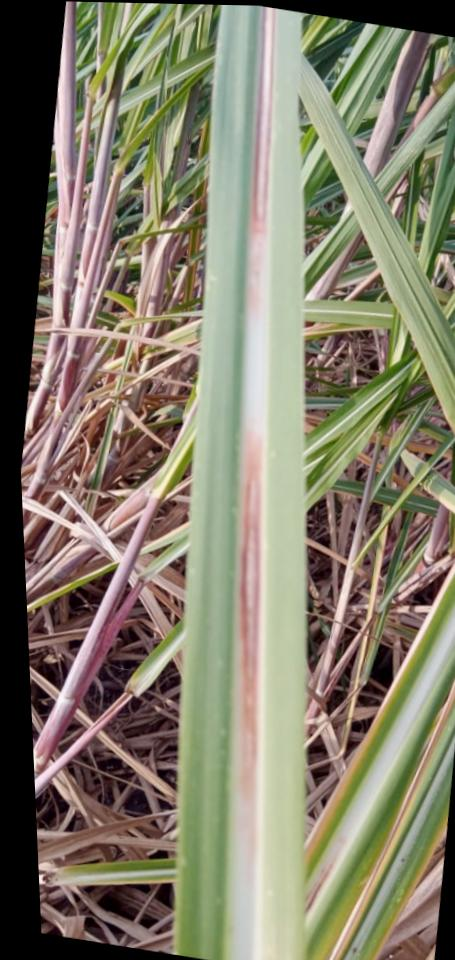RedRot: (233, 429, 268, 802), (244, 6, 276, 235)
